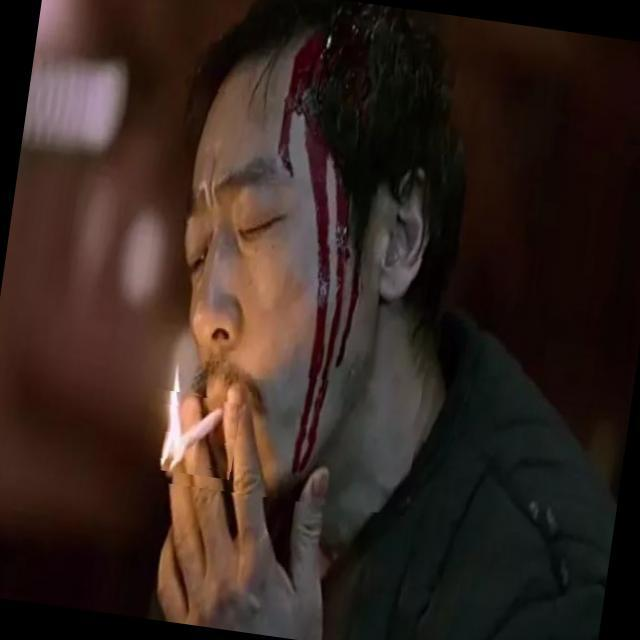cigarette: (141, 388, 243, 480)
